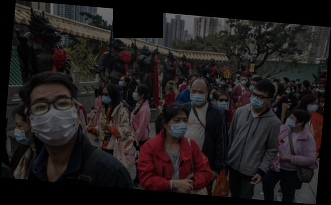mask_weared_incorrect: (182, 81, 187, 86)
with_mask: (28, 92, 79, 147), (167, 114, 189, 139), (13, 122, 33, 145), (188, 87, 207, 106), (250, 91, 267, 109), (306, 100, 319, 113), (216, 96, 228, 109), (100, 91, 112, 104), (287, 115, 297, 127), (131, 88, 140, 101), (248, 82, 256, 92), (209, 90, 216, 101), (118, 78, 125, 87), (240, 77, 247, 85), (285, 88, 292, 95), (227, 85, 233, 93), (319, 87, 325, 93), (220, 79, 225, 85)
